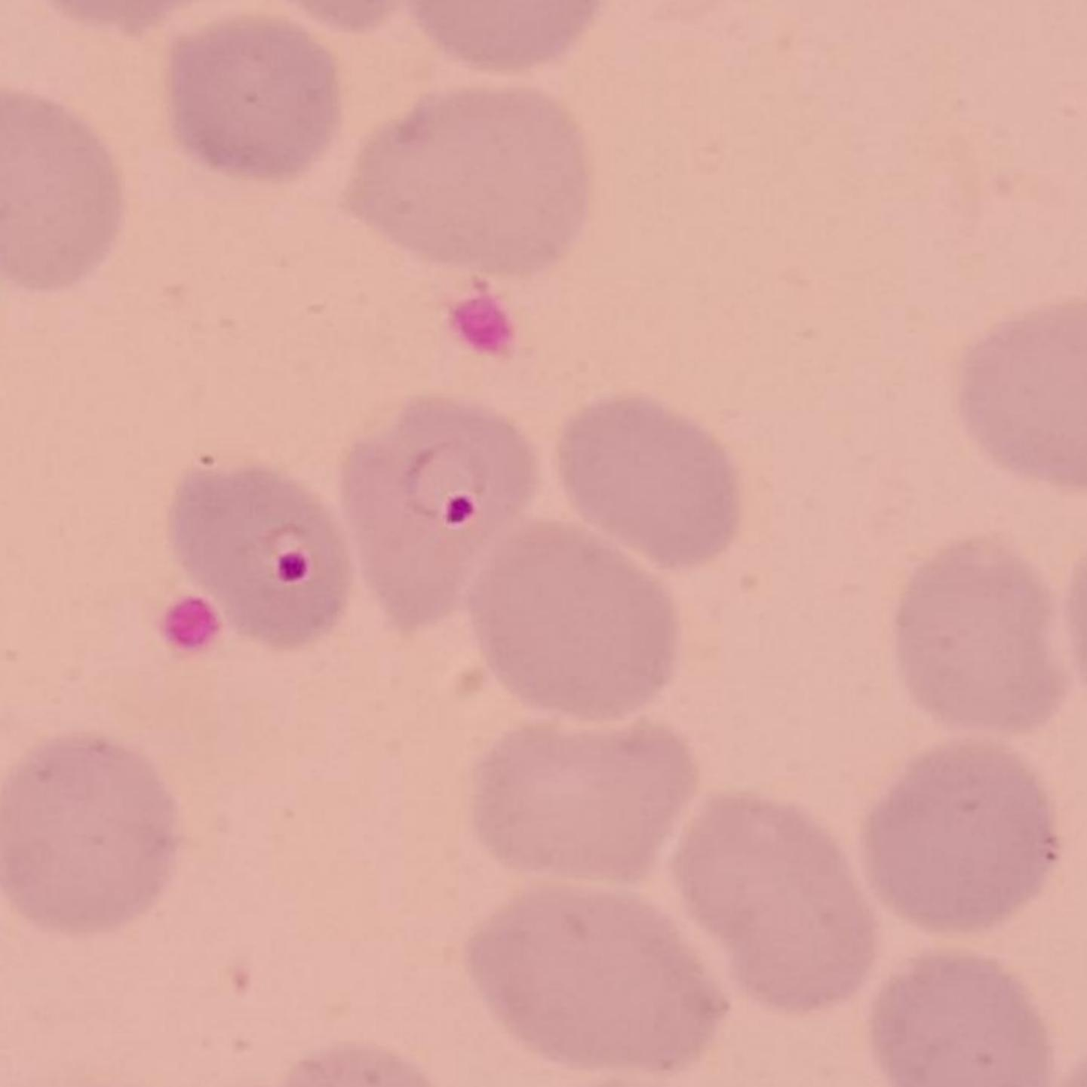Infected: (334, 396, 536, 626), (166, 469, 345, 654)
Uninfected: (344, 86, 590, 282), (458, 888, 726, 1067), (679, 793, 887, 1010), (473, 521, 677, 718), (860, 745, 1061, 933), (0, 733, 174, 931), (893, 536, 1064, 731), (475, 728, 691, 879), (561, 396, 738, 570), (171, 18, 335, 181)
